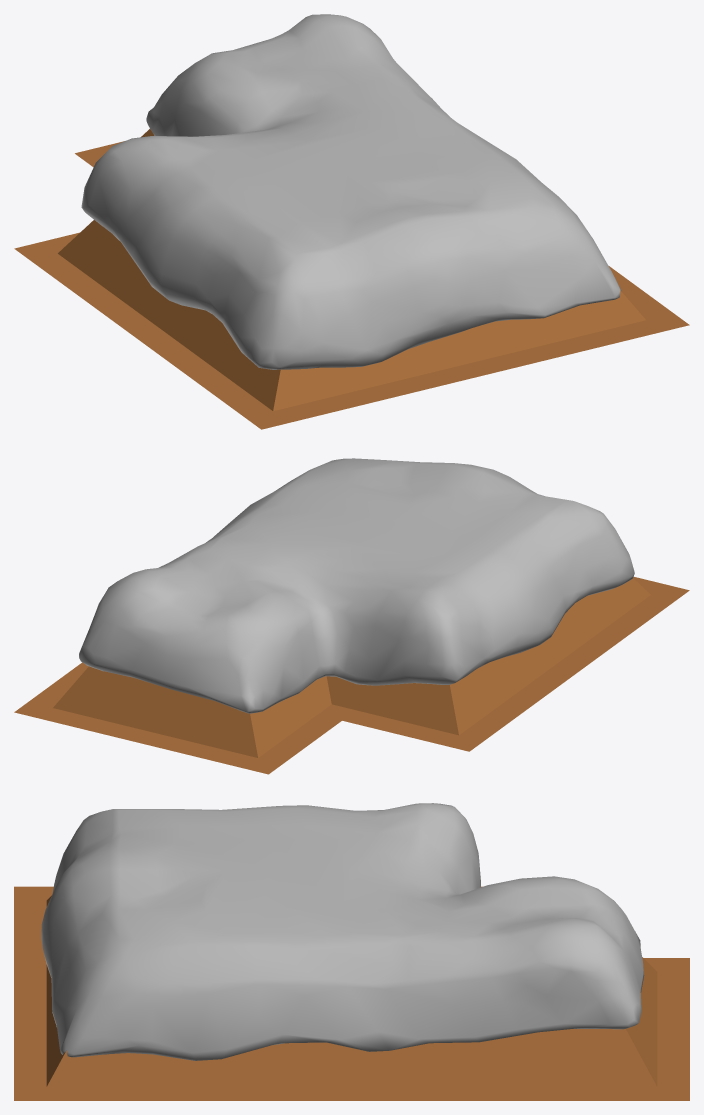
File: Mountain.fbx
3 renders of one model, top to bottom at view 1: azimuth 30°, elevation 25°; view 2: azimuth 150°, elevation 25°; view 3: azimuth 270°, elevation 25°, orthographic. The views are drawn at different scales.
Visible parts, largest first — view 1: Mountain; view 2: Mountain; view 3: Mountain.
Part boxes in pixels (x1,y1,x2,y2): Mountain: (14, 14, 689, 429); Mountain: (14, 458, 689, 774); Mountain: (14, 803, 689, 1100).
Bounding box in the file's own units: 60 × 17.27 × 80.
